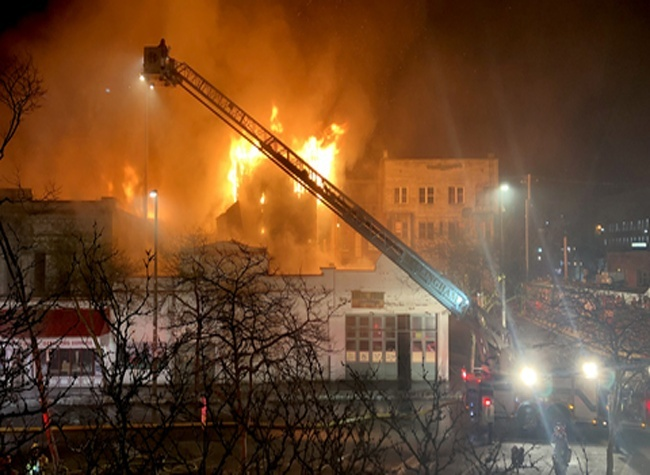Fire: (220, 142, 274, 208), (295, 137, 342, 199)
Smoke: (58, 117, 196, 206)
